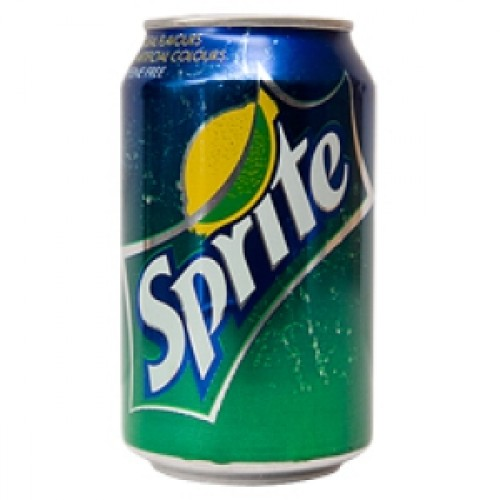sprite_can: (118, 14, 374, 483)
